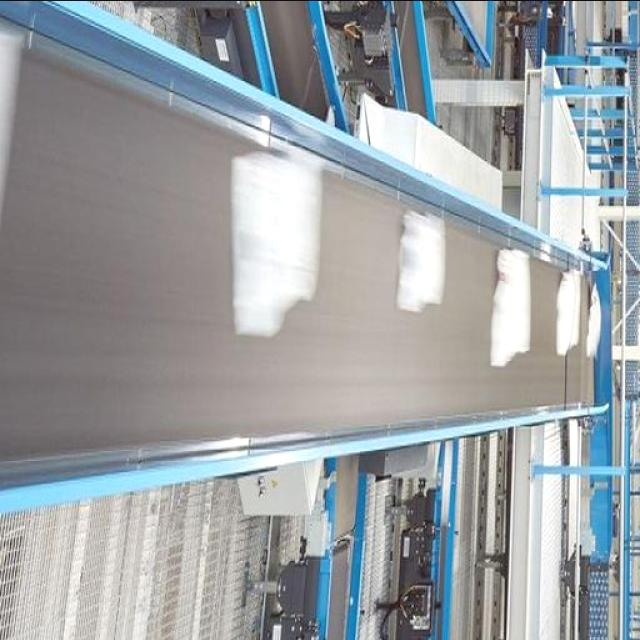conveyor: (0, 12, 599, 461)
